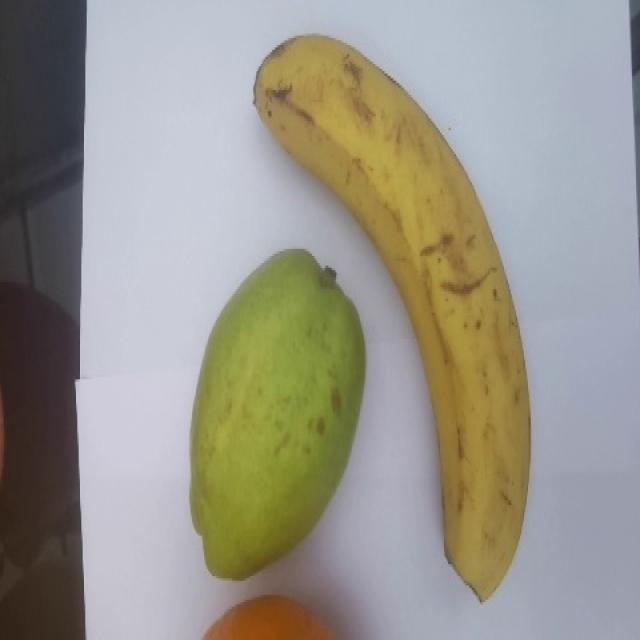Banana: (251, 32, 532, 603)
Orange: (201, 594, 334, 639)
